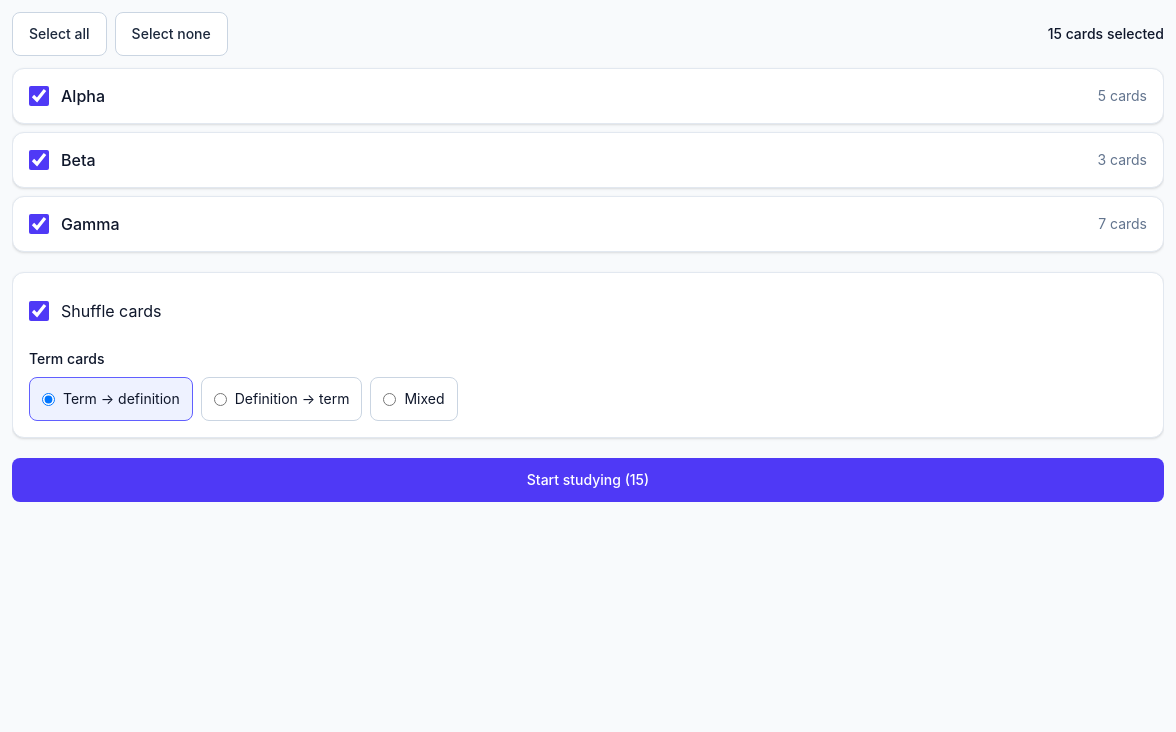
group picker › select all re-selects every group and enables Start
Click the button "Select none" at (171, 34), box 115,12 -> 228,56
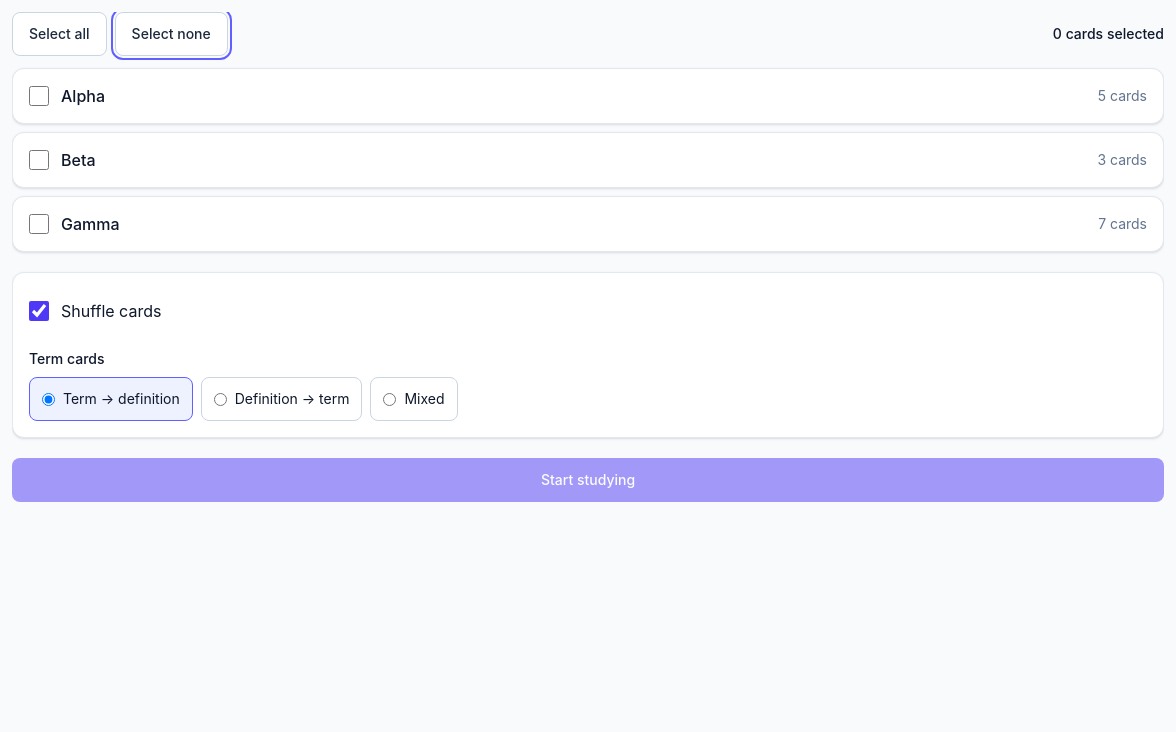
Click the button "Select all" at (59, 34), box 12,12 -> 107,56
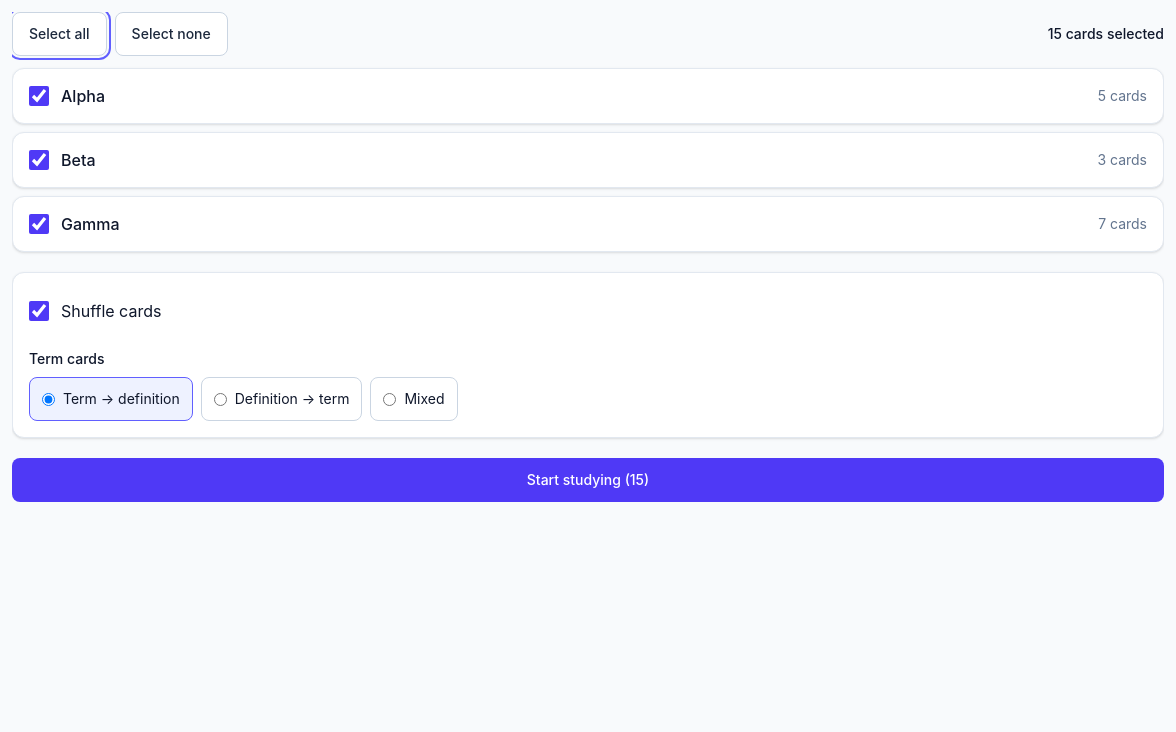
Result: the text with test id "selected-total" reads "15 cards selected" at 1048,24 -> 1164,44
Result: the button "Start studying (15)" is enabled at 12,458 -> 1164,502
